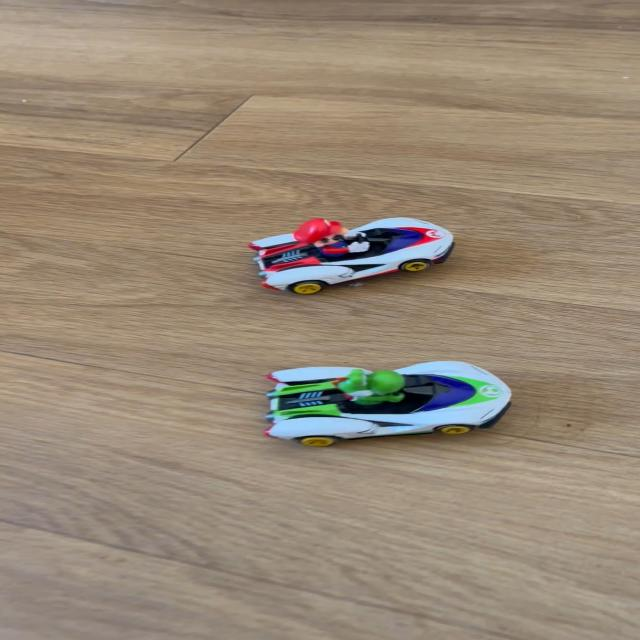mario: (240, 208, 470, 291)
yoshi: (232, 348, 534, 448)
